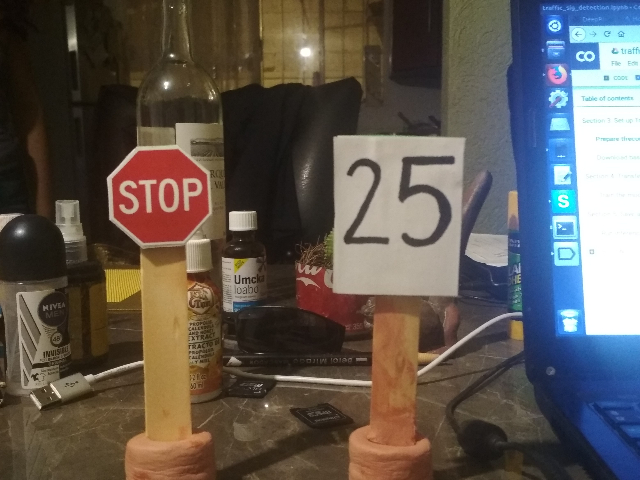Limit 25: (330, 131, 464, 299)
Stop: (106, 142, 215, 249)
